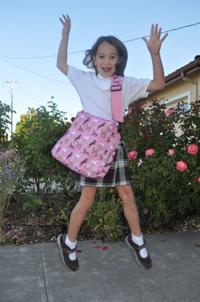person: (52, 15, 165, 268)
